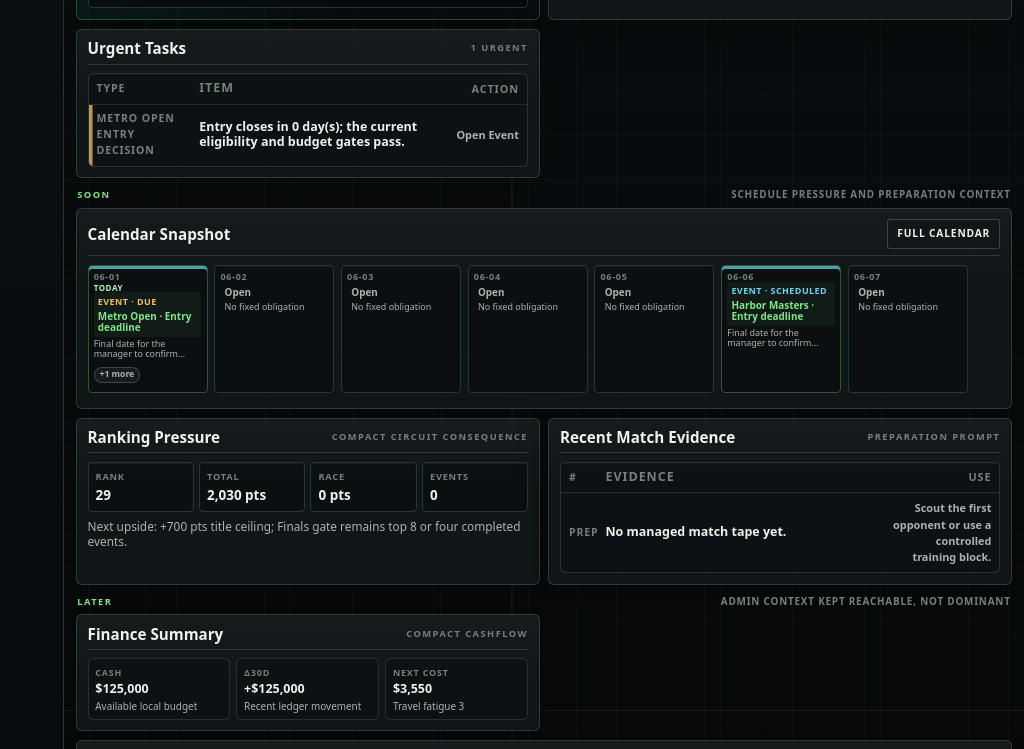
Test: career shell daily action › opens the standalone Calendar from the real Portal overflow route
(page scrolled)
Click the button "+1 more": click(117, 375) [94,368,140,383]
(page scrolled)
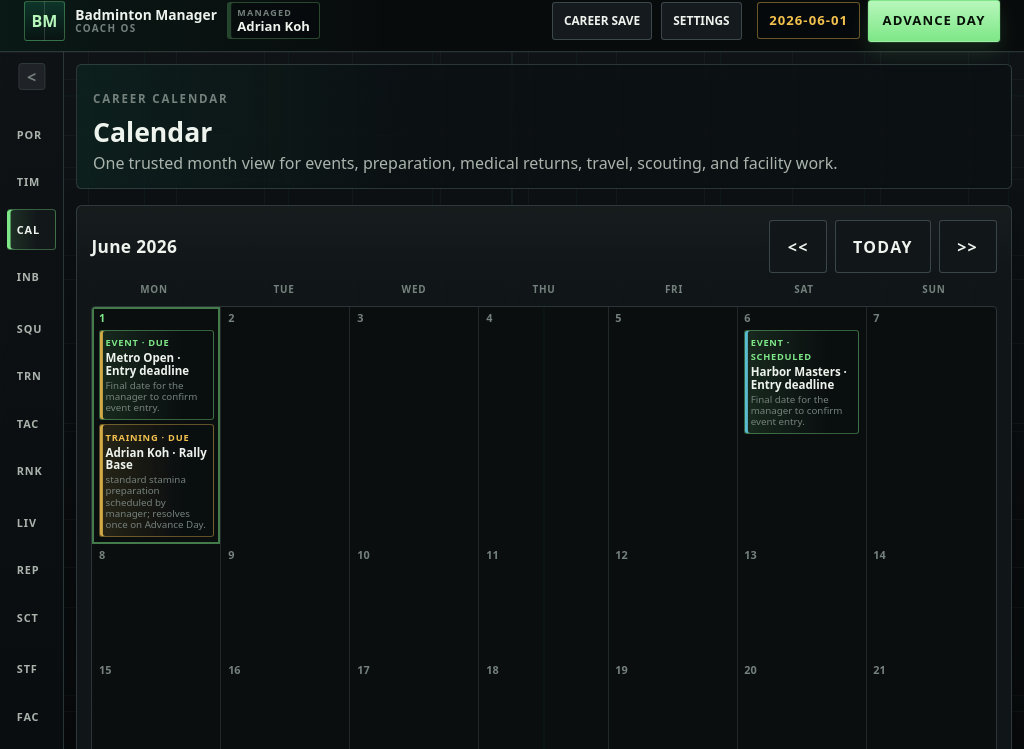
Result: the heading "Calendar" is shown at [93,114,212,150]
